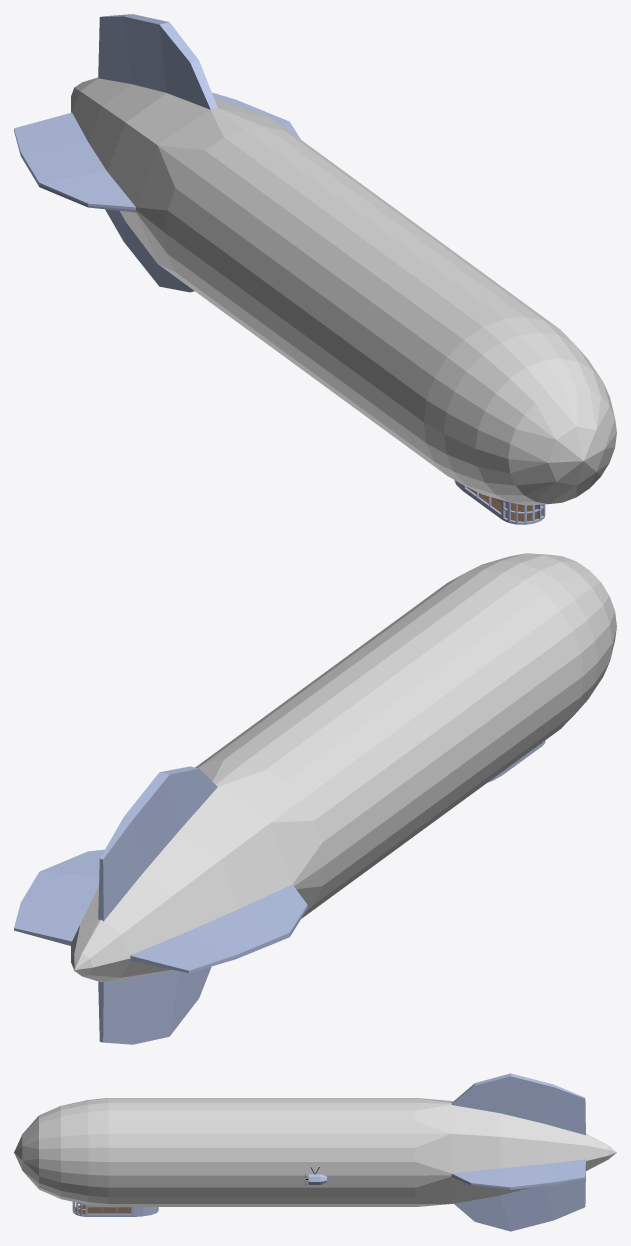
File: Zeppelin.fbx
3 views of the same model, one above another, from view 1: azimuth 30°, elevation 25°; view 2: azimuth 150°, elevation 25°; view 3: azimuth 270°, elevation 25° (orthographic). The views are drawn at different scales.
Visible parts, largest first — view 1: Zeppelin, Cab; view 2: Zeppelin; view 3: Zeppelin, Cab.
Boxes of the visible parts, x1,y1,x2,y2 form: Zeppelin: [14, 14, 616, 505]; Cab: [454, 480, 545, 524]; Zeppelin: [14, 553, 616, 1044]; Zeppelin: [14, 1073, 616, 1231]; Cab: [72, 1202, 158, 1216].
Size of the model in its own units: 1875 by 1875 by 6598.
